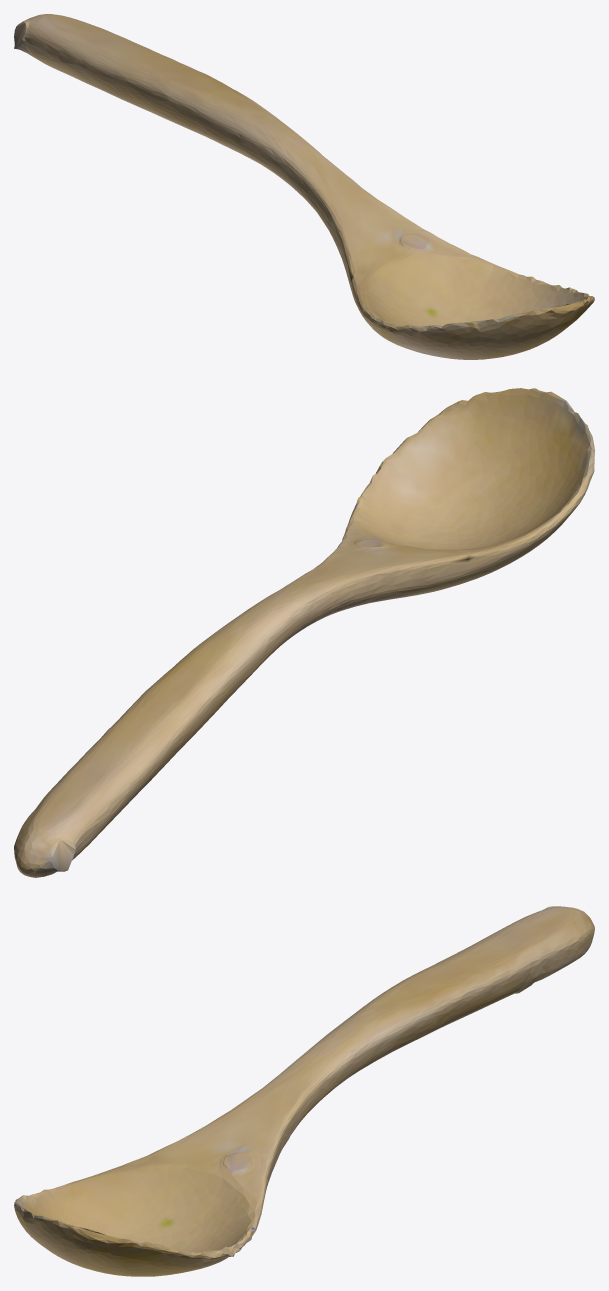
3 views of the same model, one above another, from view 1: azimuth 30°, elevation 25°; view 2: azimuth 150°, elevation 25°; view 3: azimuth 330°, elevation 25° (orthographic). The views are drawn at different scales.
Visible parts, largest first — view 1: scan.ply; view 2: scan.ply; view 3: scan.ply.
Part boxes in pixels (<box>): scan.ply: <box>14,14,594,359</box>; scan.ply: <box>14,388,594,877</box>; scan.ply: <box>14,906,594,1276</box>.
Bounding box in the file's own units: 0.0414 × 0.0215 × 0.1935.
